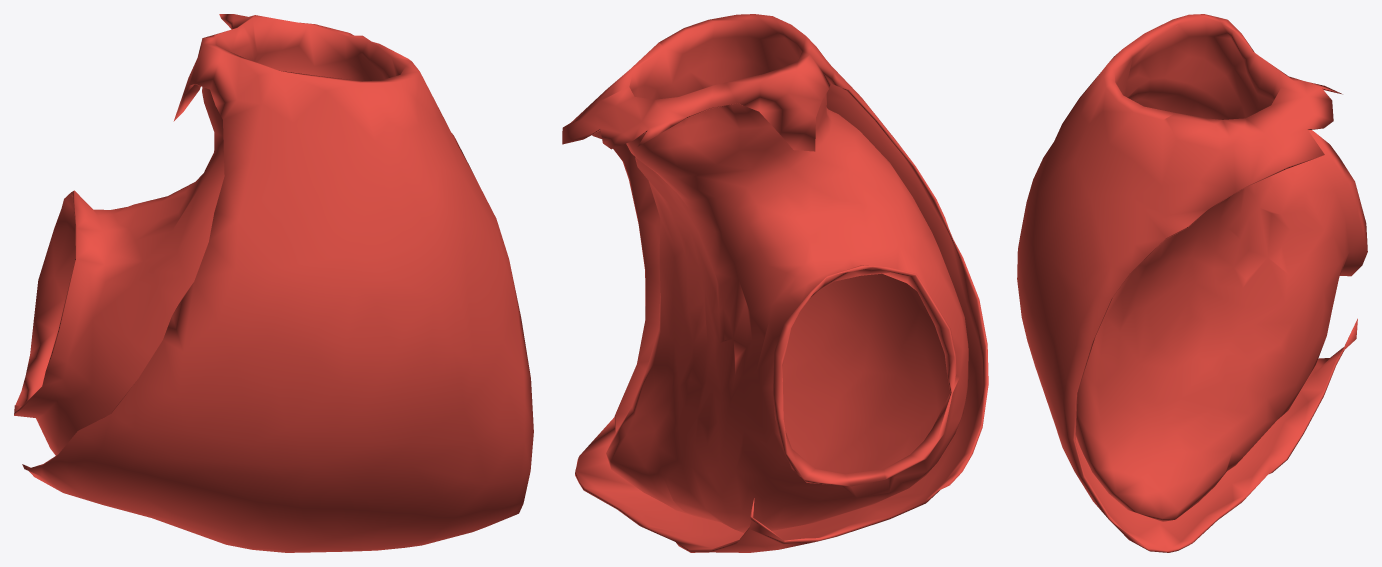
File: rightventricle.gltf
The picture shows the model from 3 angles, left to right: view 1: azimuth 30°, elevation 25°; view 2: azimuth 150°, elevation 25°; view 3: azimuth 270°, elevation 25°; orthographic projection. The views are drawn at different scales.
Parts seen in each view (by area): view 1: Rightventricle.008; view 2: Rightventricle.008; view 3: Rightventricle.008.
Boxes of the visible parts, bbox=[...] form: Rightventricle.008: bbox=[14, 14, 533, 552]; Rightventricle.008: bbox=[562, 14, 988, 552]; Rightventricle.008: bbox=[1017, 14, 1367, 552].
Size of the model in its own units: 2.55 by 2.87 by 2.08.
